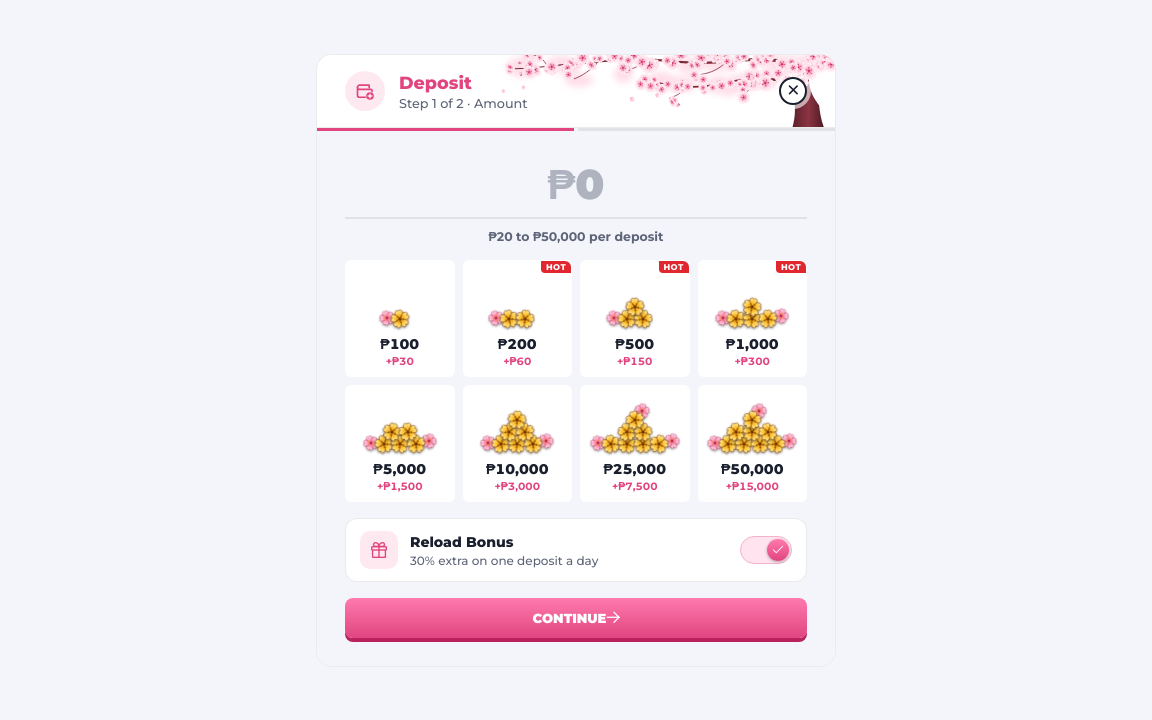
Test: deposit › asks for at least the minimum deposit
Step 1. Click the button "Continue" → (576, 618), box [345, 598, 807, 638]
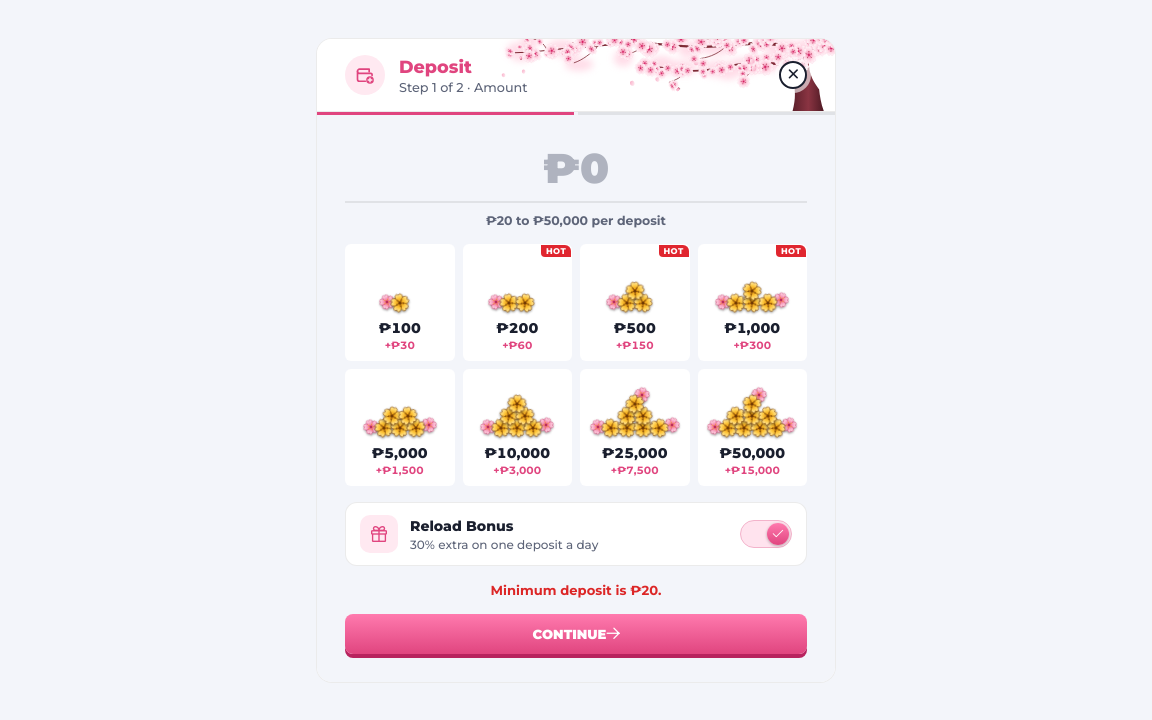
Expected: the message reads "Minimum deposit is ₱20.", [490, 582, 661, 598]
